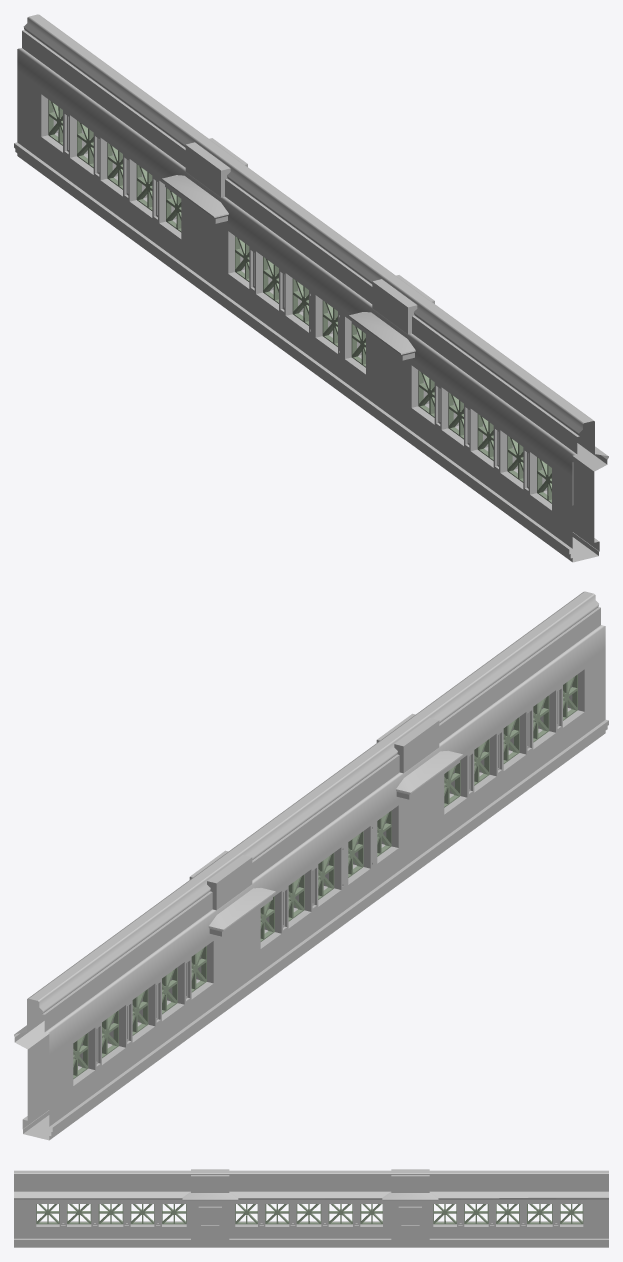
File: SM_Wall_Window_1.fbx
3 views of the same model, one above another, from view 1: azimuth 30°, elevation 25°; view 2: azimuth 150°, elevation 25°; view 3: azimuth 270°, elevation 25° (orthographic). The views are drawn at different scales.
Parts seen in each view (by area): view 1: SM_Wall_Window_1; view 2: SM_Wall_Window_1; view 3: SM_Wall_Window_1.
Boxes of the visible parts, left/top/right/bottom form: SM_Wall_Window_1: left=14, top=14, right=608, bottom=562; SM_Wall_Window_1: left=14, top=591, right=608, bottom=1140; SM_Wall_Window_1: left=14, top=1169, right=608, bottom=1247.
Size of the model in its own units: 146 by 2432 by 330.
